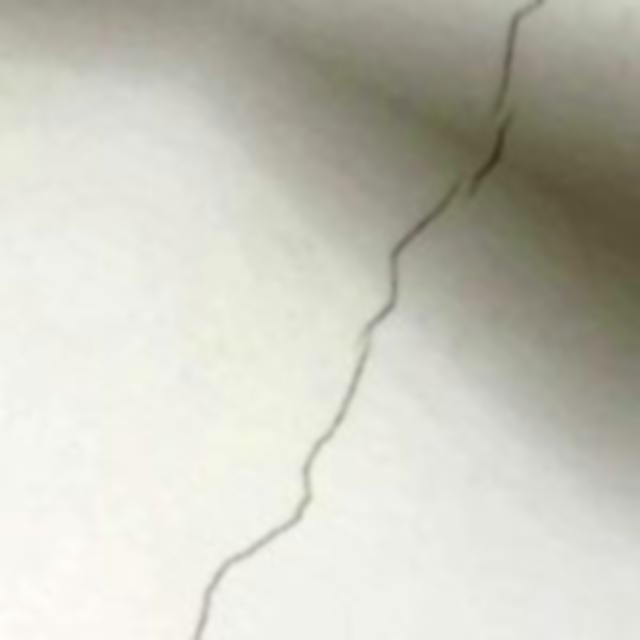SurfaceCrack: (166, 0, 560, 640)
